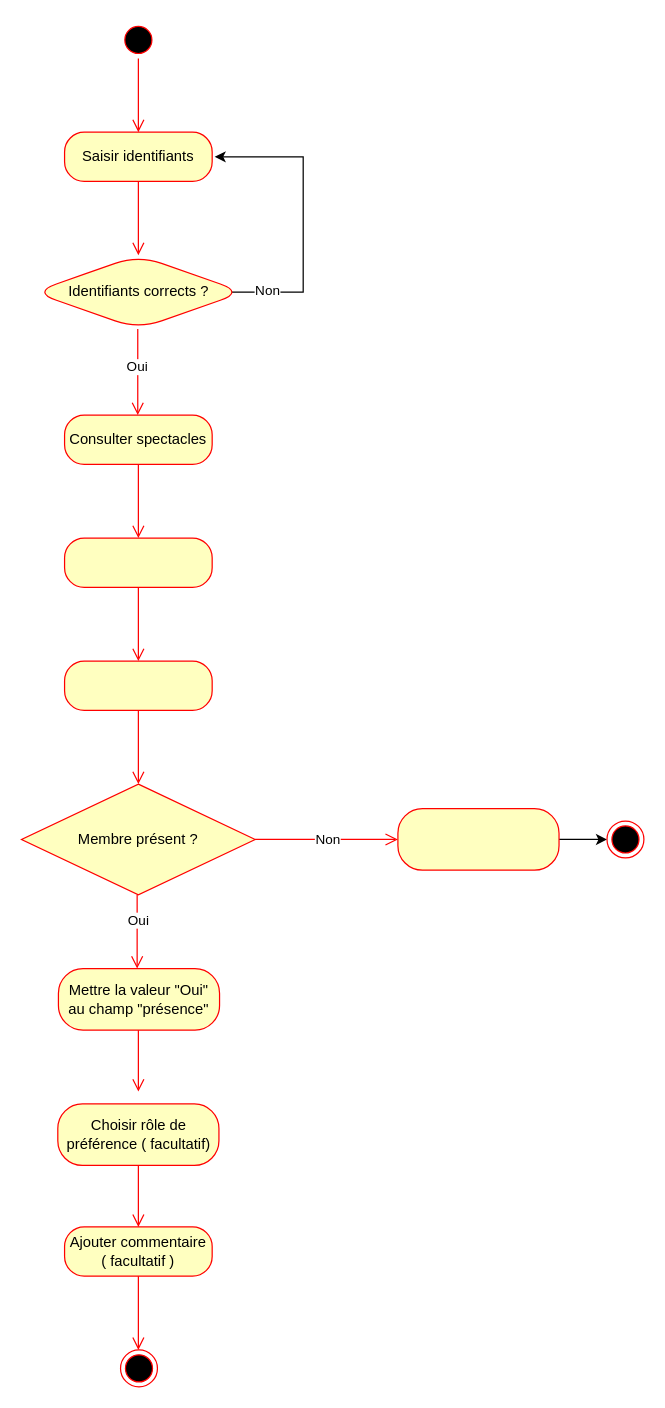
This 665x1408 diagram has some shape labels left out. The box of each missing label's shape, as (x1, y1, x2, y2) in pixels:
Mettre la valeur "Non" au champ "présence": (397, 807, 559, 870)
Signaler sa présence: (63, 660, 212, 710)
Sélectionner spectacle: (63, 537, 212, 587)
